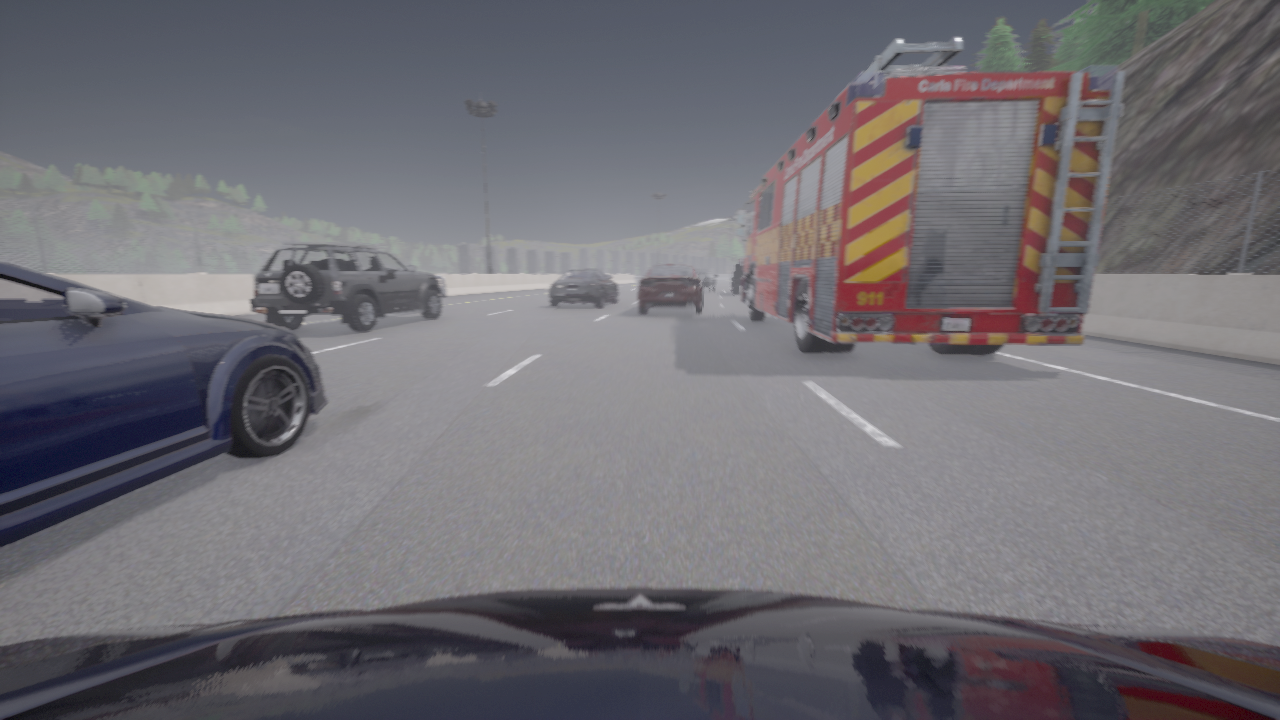cyclist: (0, 588, 1279, 719), (735, 37, 1125, 354), (249, 243, 446, 331), (639, 262, 705, 313), (548, 269, 618, 307), (696, 268, 716, 291), (732, 258, 744, 294), (606, 275, 607, 276)
